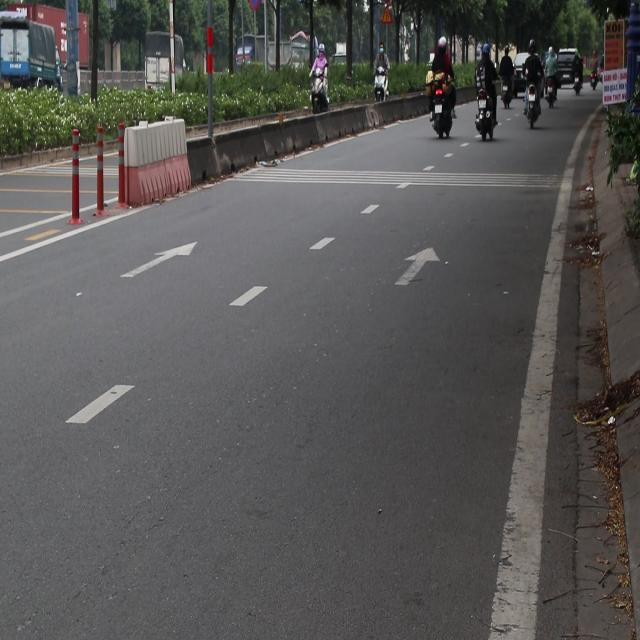car: (555, 48, 578, 78)
motorbike: (431, 77, 456, 137), (475, 94, 497, 143), (368, 62, 389, 106)
truck: (0, 1, 88, 93), (0, 22, 69, 116), (142, 32, 190, 104)
